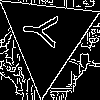Y: (22, 12, 67, 50)
